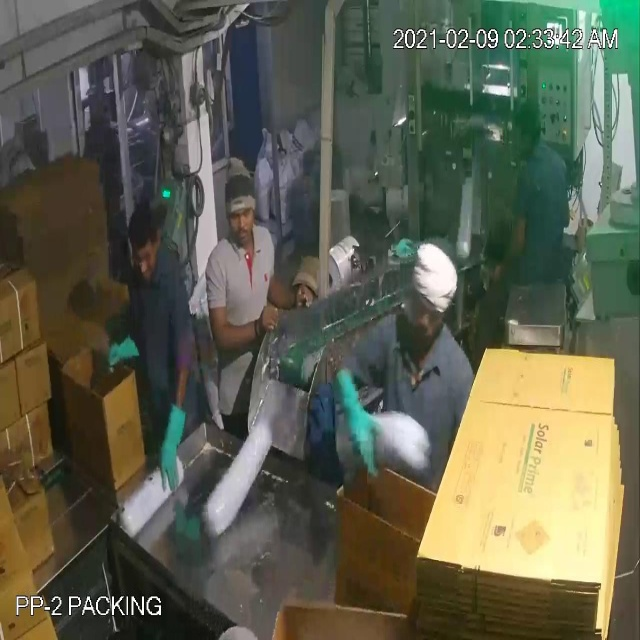Guantes: (321, 357, 390, 488), (147, 396, 196, 494), (98, 327, 151, 381)
Sin_guantes: (204, 287, 285, 355), (483, 199, 531, 293), (264, 265, 314, 321)
